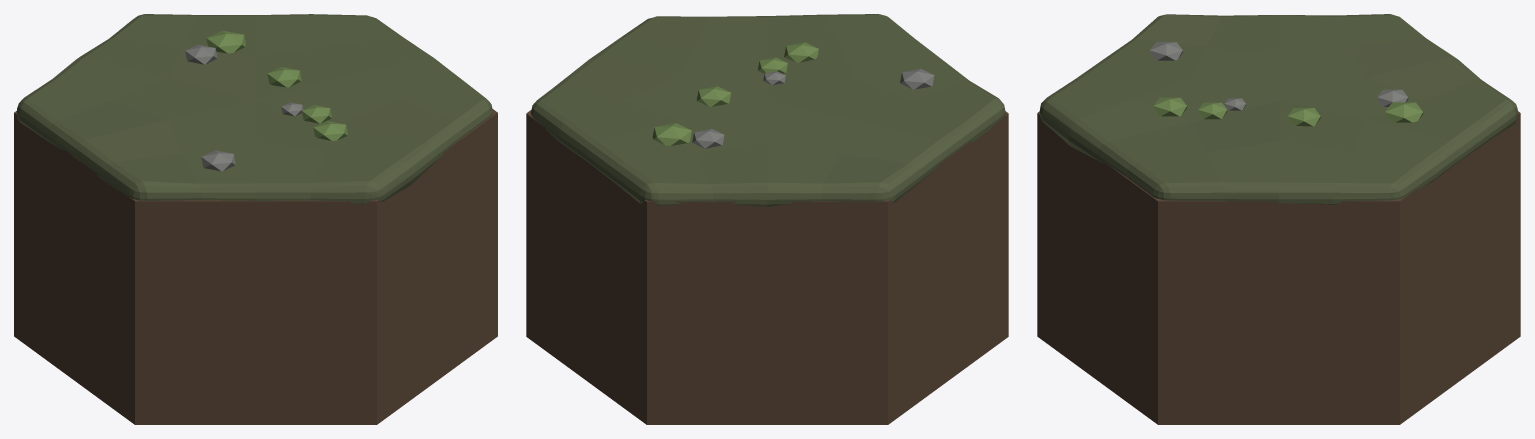
The model's file is hex_peat.glb.
3 views of the same model, side by side, from view 1: azimuth 30°, elevation 25°; view 2: azimuth 150°, elevation 25°; view 3: azimuth 270°, elevation 25° (orthographic).
Parts seen in each view (by area): view 1: hex_peat; view 2: hex_peat; view 3: hex_peat.
Part boxes in pixels (x1=…): hex_peat: x1=14, y1=14, x2=497, y2=424; hex_peat: x1=526, y1=14, x2=1008, y2=424; hex_peat: x1=1037, y1=14, x2=1520, y2=424.
Size of the model in its own units: 1.7 by 1.11 by 1.96.
